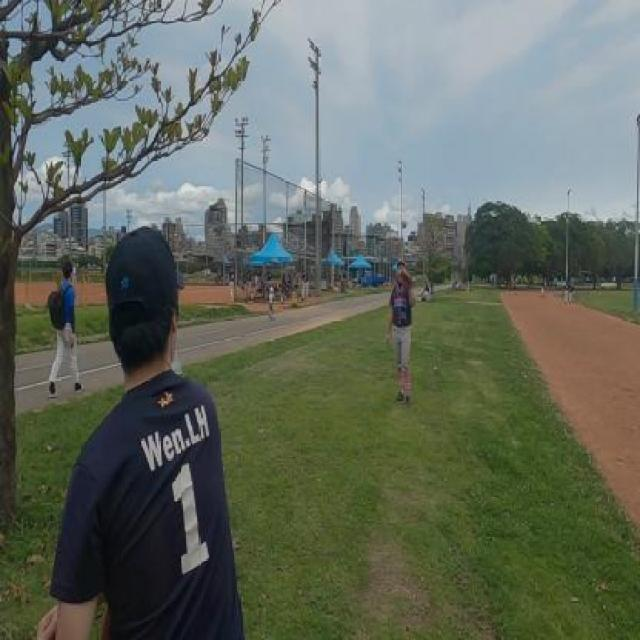baseball: (402, 220, 408, 228)
